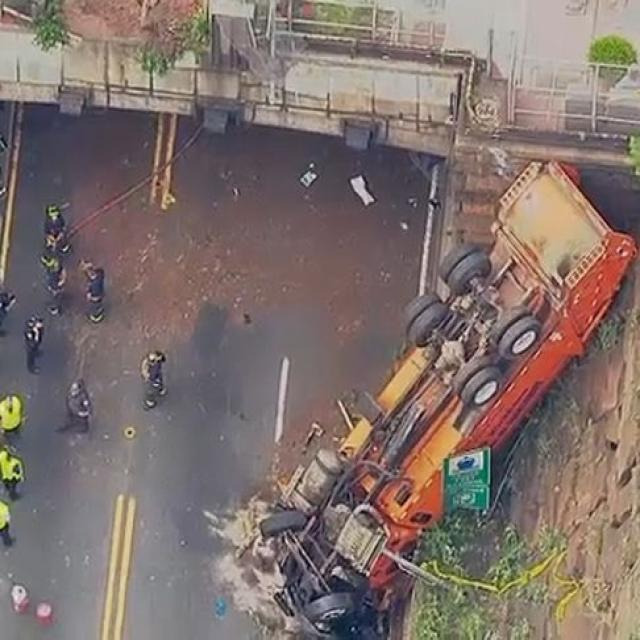traffic_incident: (234, 135, 631, 639)
